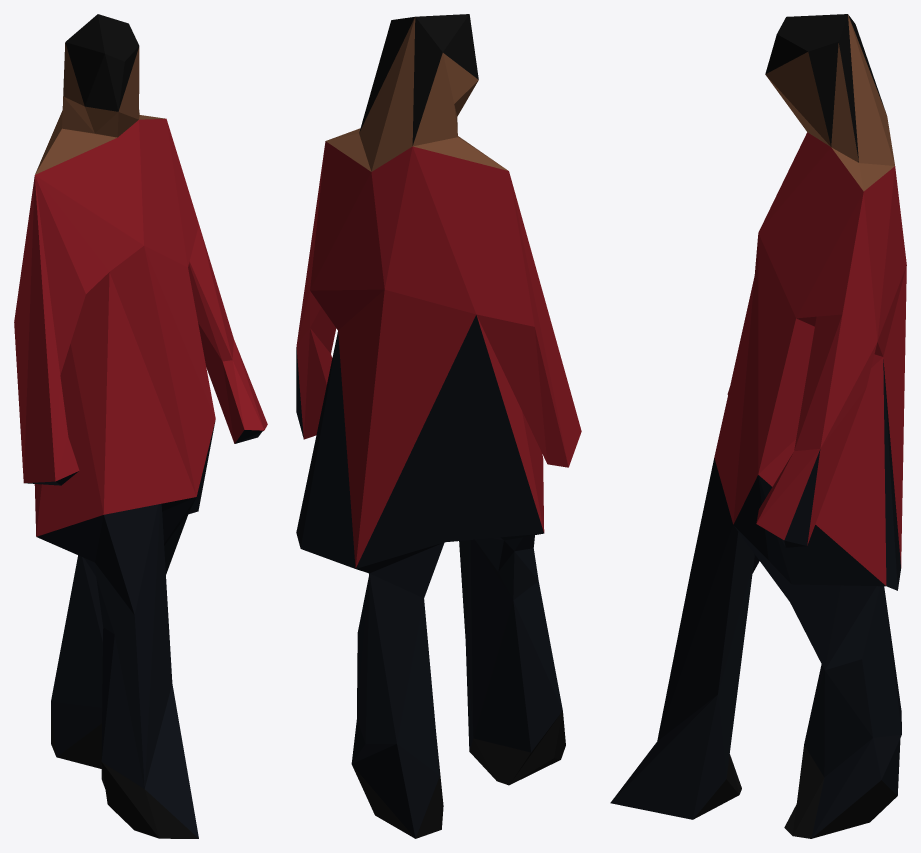
File: walker-16.glb
The picture shows the model from 3 angles, left to right: view 1: azimuth 30°, elevation 25°; view 2: azimuth 150°, elevation 25°; view 3: azimuth 270°, elevation 25°; orthographic projection. The views are drawn at different scales.
Visible parts, largest first — view 1: Woman04; view 2: Woman04; view 3: Woman04.
Boxes of the visible parts, box(x1,y1,x2,y2) form: Woman04: box(14, 14, 267, 838); Woman04: box(296, 14, 581, 838); Woman04: box(610, 14, 906, 838).
Bounding box in the file's own units: 0.5555 × 1.58 × 0.5358.
